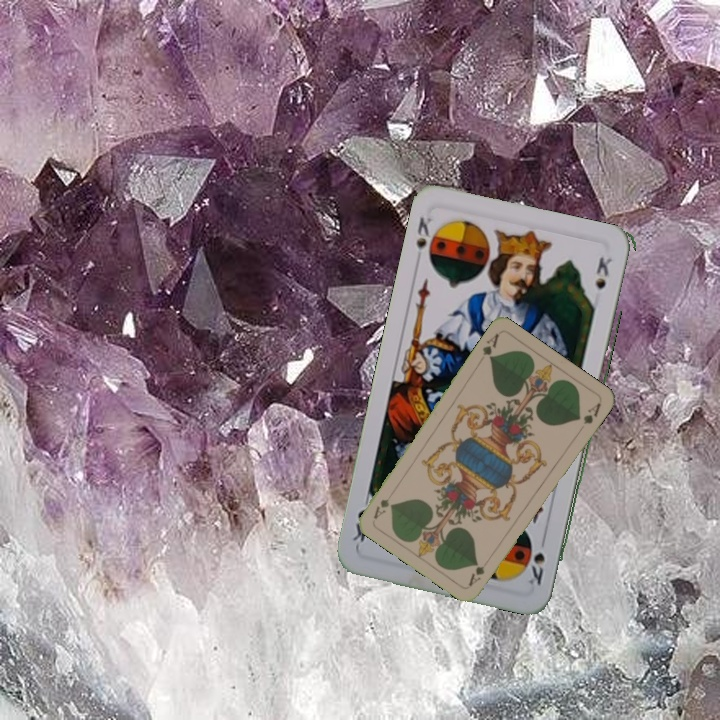GA: (464, 557, 490, 589), (478, 329, 502, 362)
SK: (412, 213, 434, 267), (525, 548, 548, 588)
